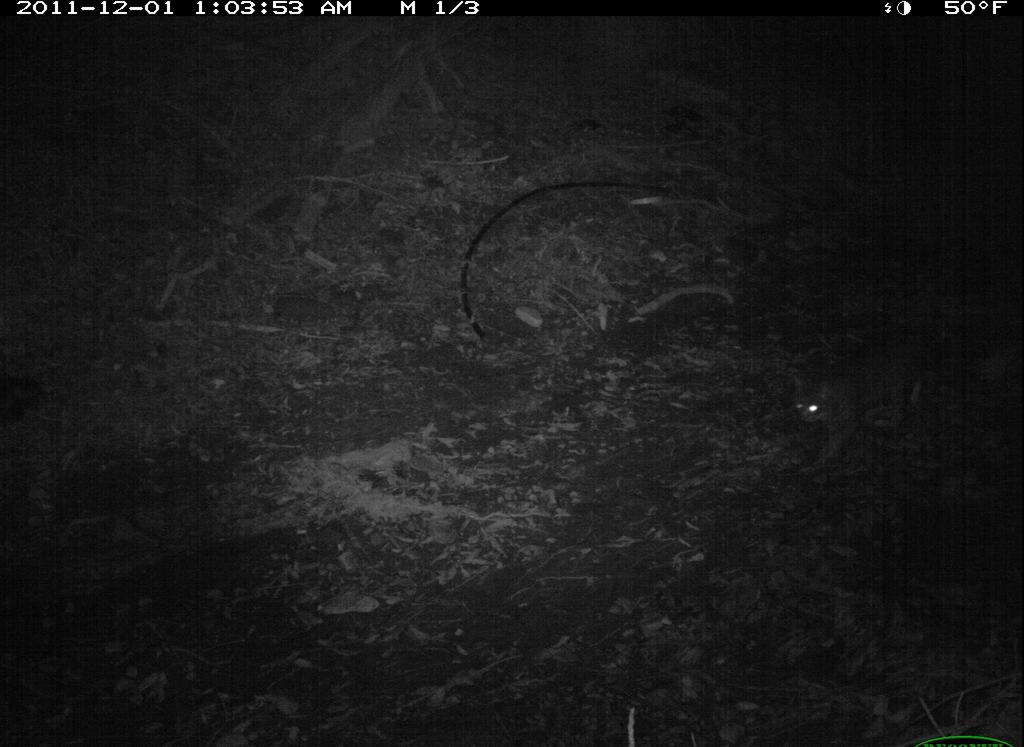cat: (788, 360, 966, 469)
